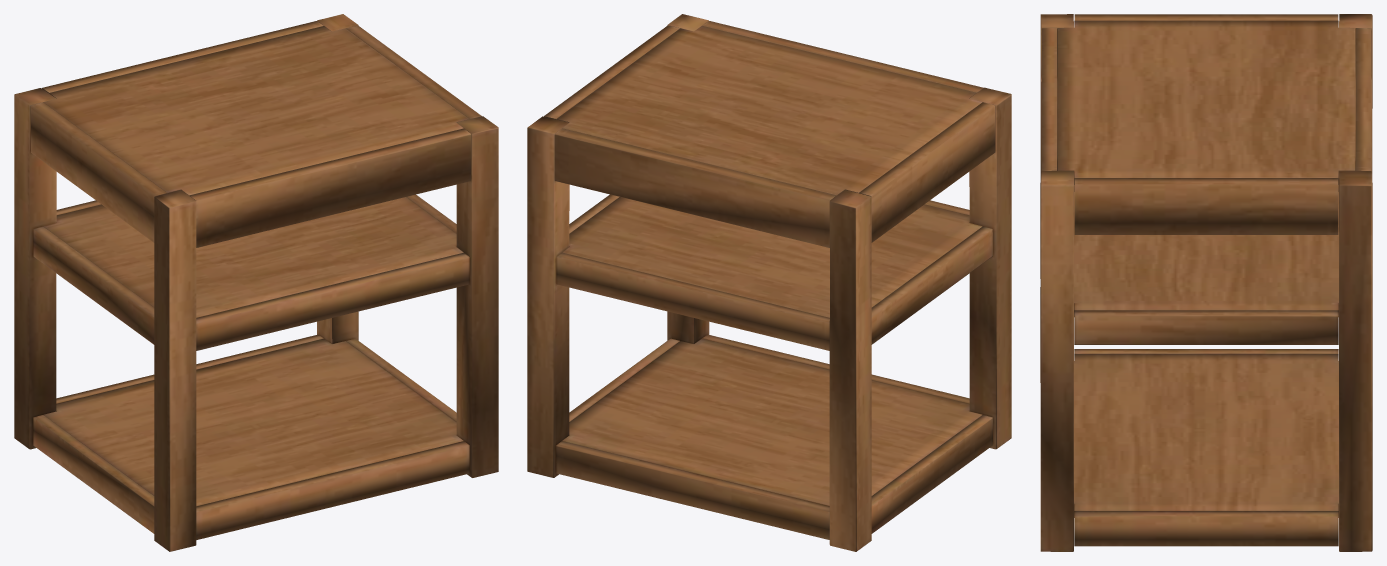
Rendered from side_table_01.glb.
The picture shows the model from 3 angles, left to right: view 1: azimuth 30°, elevation 25°; view 2: azimuth 150°, elevation 25°; view 3: azimuth 270°, elevation 25°; orthographic projection. The views are drawn at different scales.
Visible parts, largest first — view 1: side_table_01; view 2: side_table_01; view 3: side_table_01.
Part boxes in pixels (x1=…): side_table_01: x1=14, y1=14, x2=498, y2=551; side_table_01: x1=527, y1=14, x2=1011, y2=551; side_table_01: x1=1040, y1=14, x2=1372, y2=551.
Size of the model in its own units: 0.55 by 0.5507 by 0.45.
Materials: 1 (1 with a texture image).
